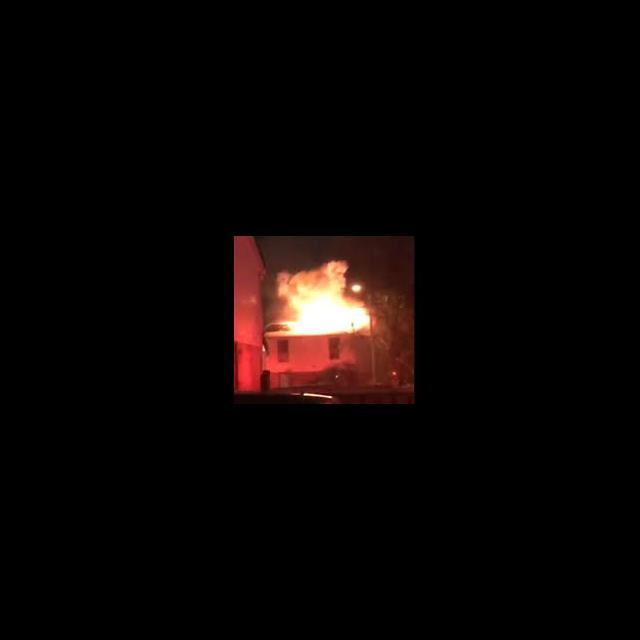Fire: (264, 256, 374, 338)
